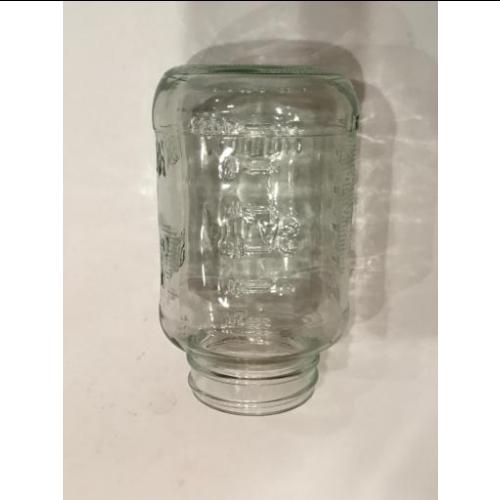glass: (159, 69, 360, 417)
